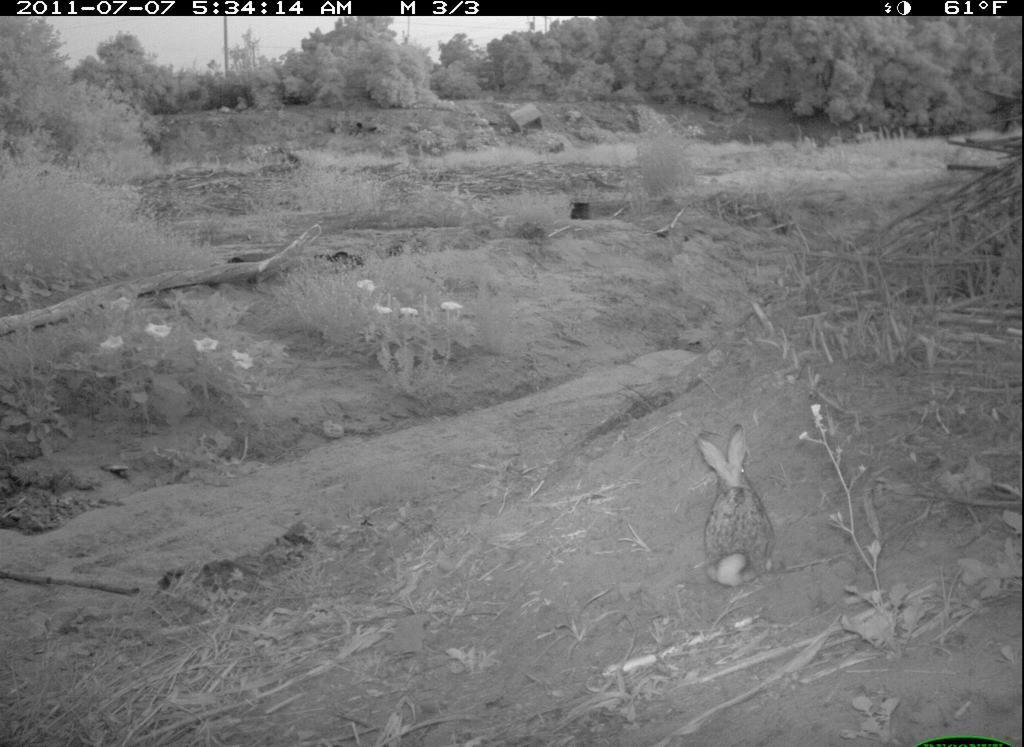rabbit: (680, 413, 786, 605)
